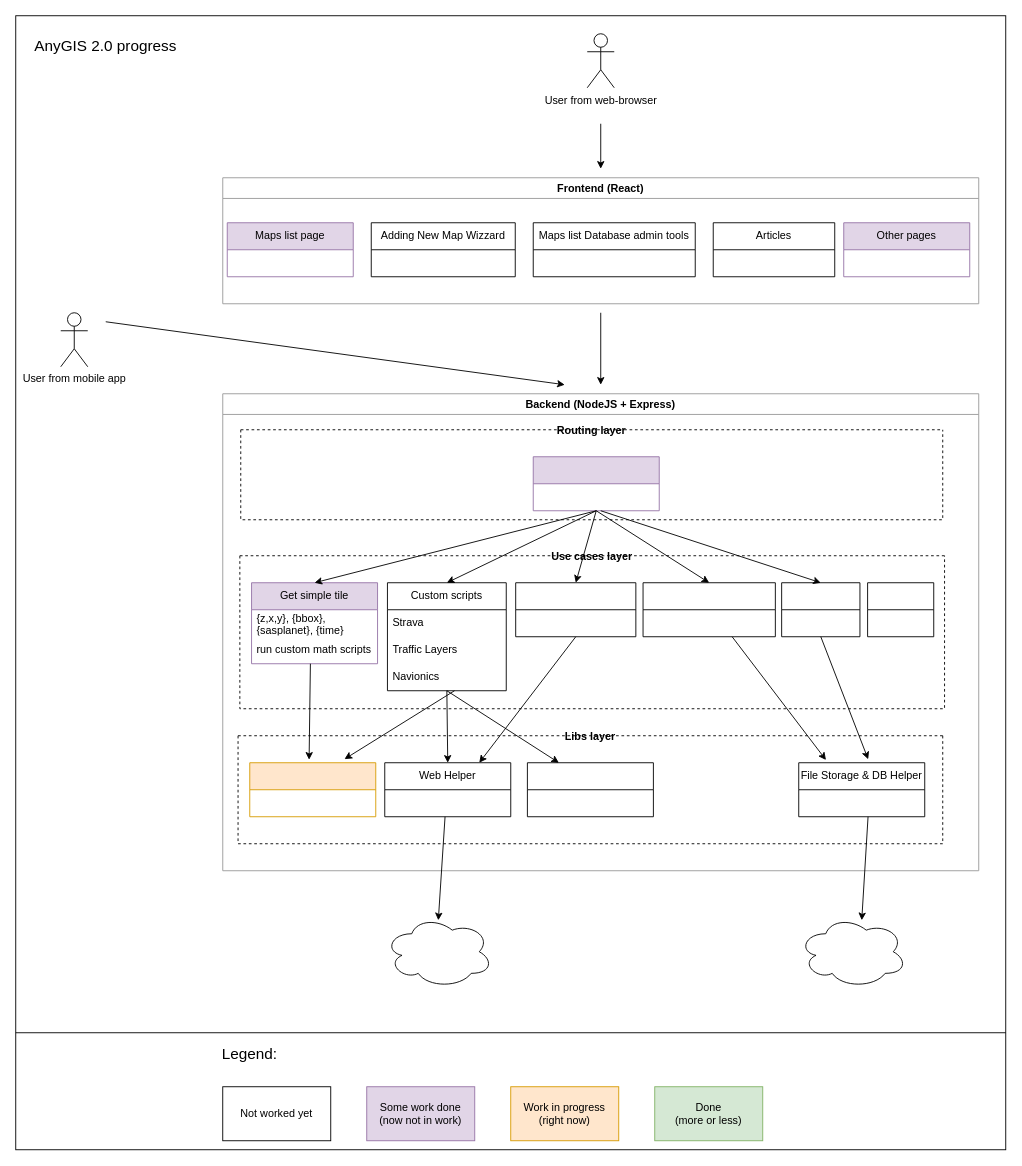
This 1022x1166 diagram has some shape labels left out. Each missing label, with the centre of its shape:
"Adding map Wizzard" goes at pixel 575 609.
"File generator" goes at pixel 820 609.
"File storage" goes at pixel 852 951.
"Geo calculator" goes at pixel 312 789.
"Image Processor" goes at pixel 589 789.
"Internet" goes at pixel 438 951.
"Maps DataBase manager" goes at pixel 708 609.
"Other tools" goes at pixel 900 609.
"Router" goes at pixel 595 483.
